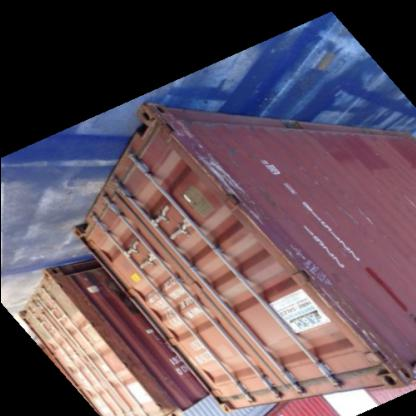Damage: (193, 158, 257, 196), (355, 323, 405, 360), (308, 287, 352, 311), (246, 198, 268, 230), (180, 124, 210, 145), (357, 198, 367, 234), (400, 192, 415, 214), (334, 209, 356, 220)
